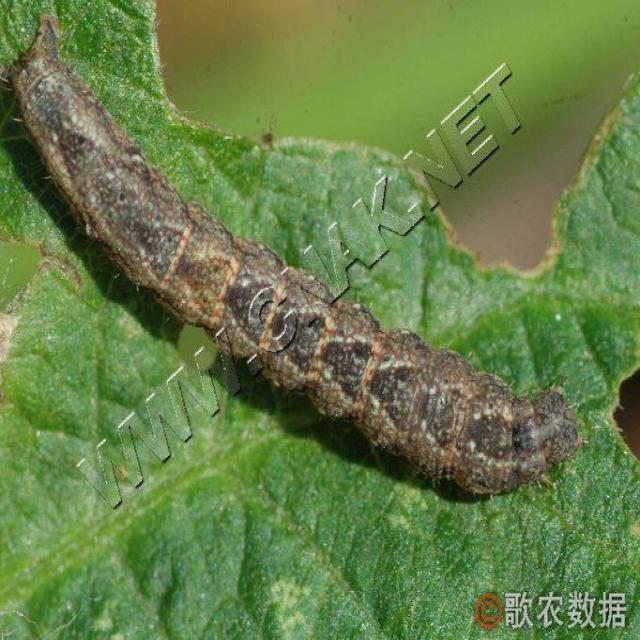armyworm: (1, 17, 606, 515)
